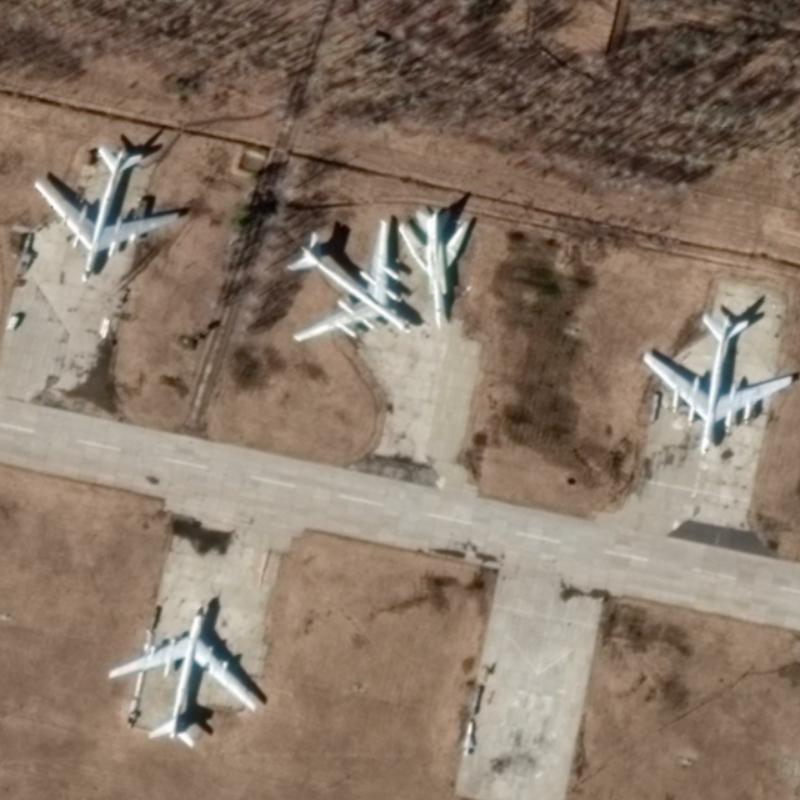A12: (395, 206, 471, 330)
A17: (639, 310, 793, 456), (106, 603, 258, 748), (31, 144, 181, 280), (284, 216, 412, 343)
